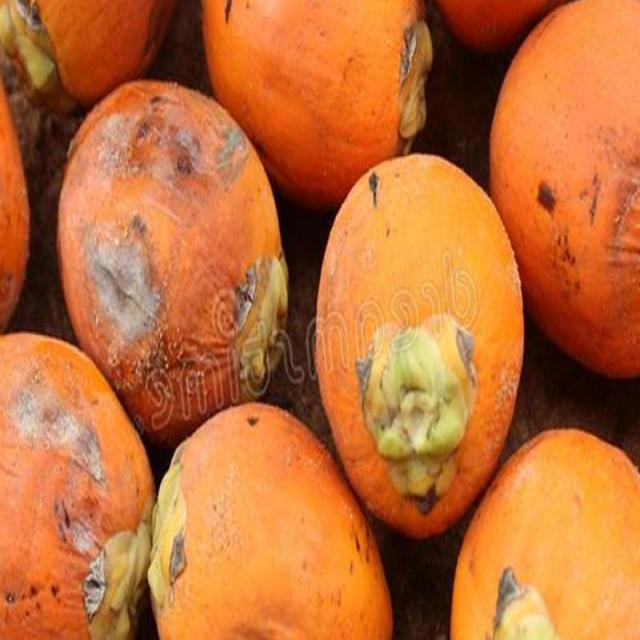good: (56, 80, 288, 444), (314, 155, 523, 534), (147, 403, 391, 639), (490, 0, 639, 377), (202, 0, 433, 208), (0, 333, 154, 639), (450, 429, 639, 639)
